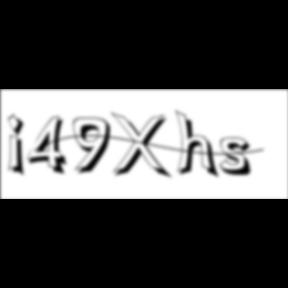4: (26, 115, 74, 179)
9: (72, 117, 118, 177)
X: (110, 112, 174, 182)
h: (176, 108, 222, 182)
i: (8, 112, 32, 180)
s: (220, 137, 258, 179)
